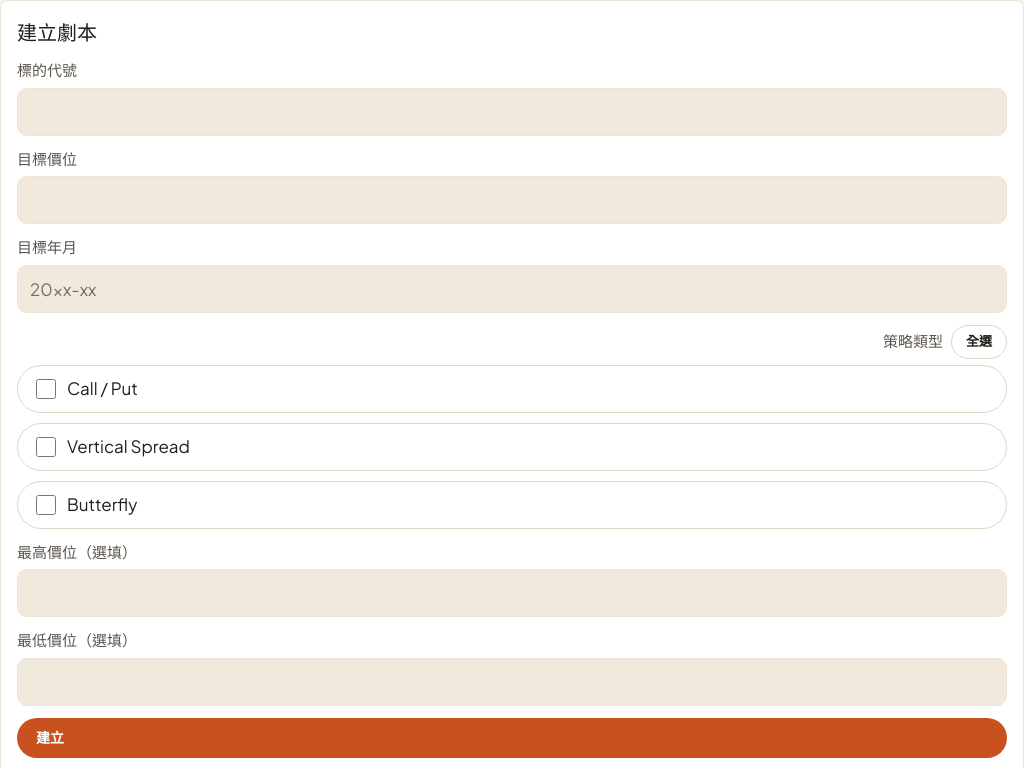
Strategy Family 勾選（T10／#227，Initial V2） › 全選（REPAIR-06／#243，OD-04） › 點「全選」一次勾起全部三個 family
Click the button "全選" at (979, 342), box x1=951 y1=324 x2=1007 y2=358
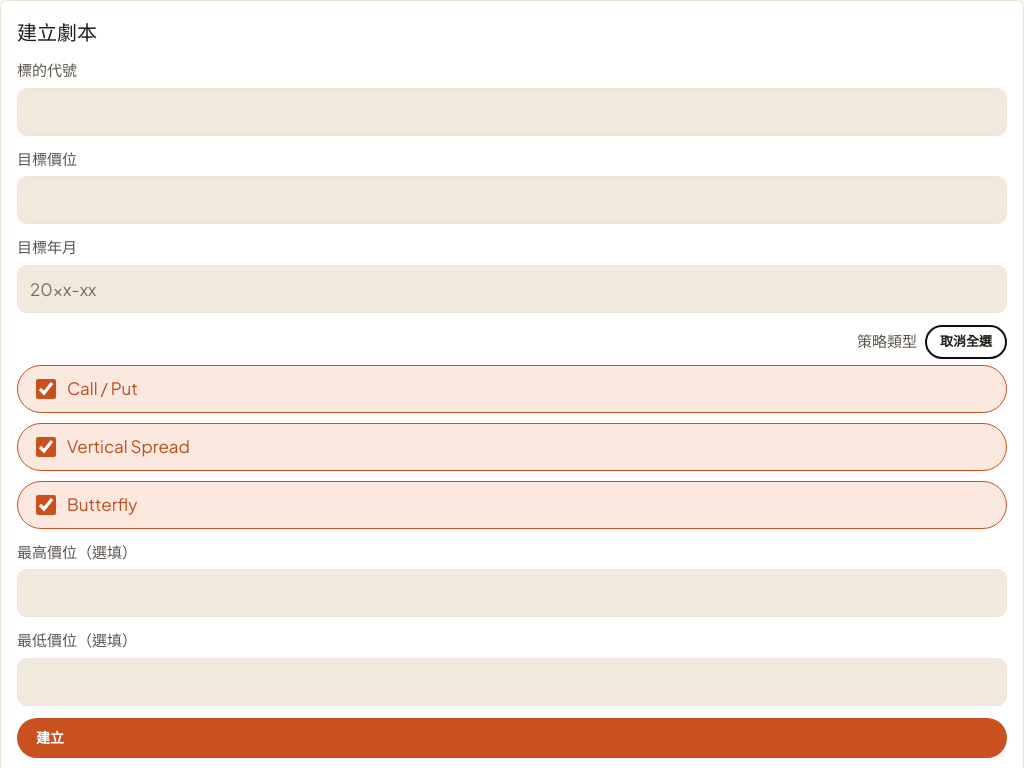
Result: the checkbox labelled "Call / Put" is checked at x1=36 y1=378 x2=56 y2=398
Result: the checkbox labelled "Vertical Spread" is checked at x1=36 y1=436 x2=56 y2=456
Result: the checkbox labelled "Butterfly" is checked at x1=36 y1=494 x2=56 y2=514
